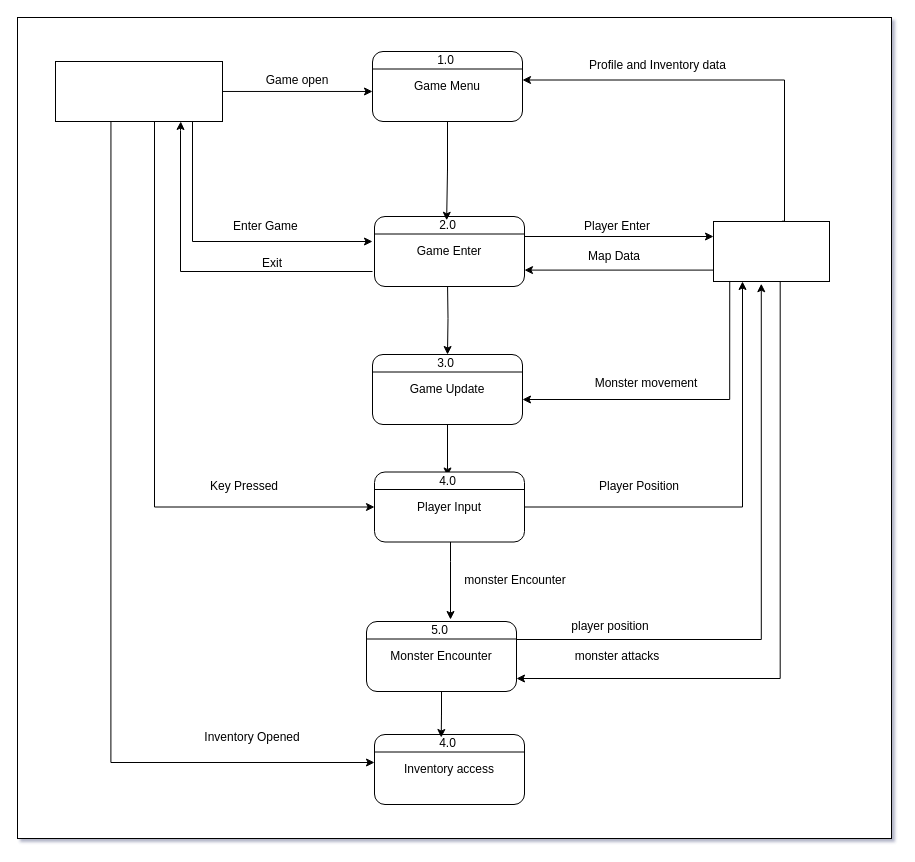
This 915x862 diagram has some shape labels left out. Each missing label, with the centre of its shape:
MapGen: [771,251]
Player: [138,91]
